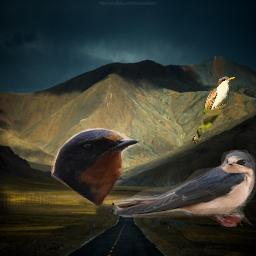Cuckoo: (190, 75, 236, 145)
Swallow: (113, 149, 256, 227), (51, 127, 142, 206)
